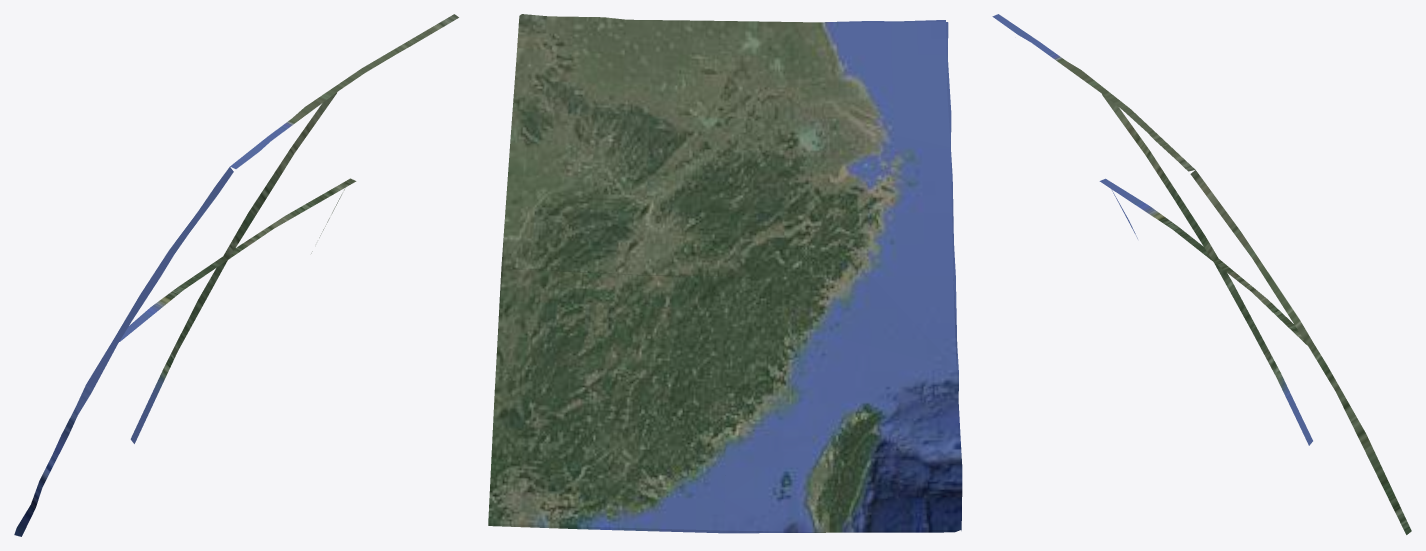
The picture shows the model from 3 angles, left to right: view 1: azimuth 30°, elevation 25°; view 2: azimuth 150°, elevation 25°; view 3: azimuth 270°, elevation 25°; orthographic projection. The views are drawn at different scales.
Bounding box in the file's own units: 1262894 × 1124768 × 1051198.
1 material, 1 textured.
